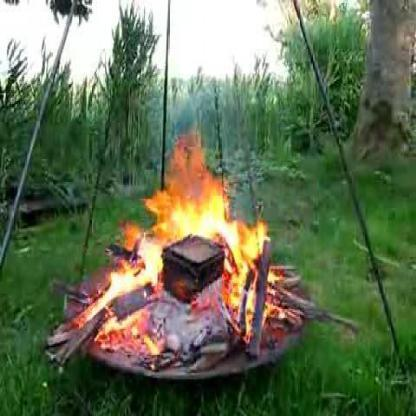Fire: (53, 129, 311, 374)
